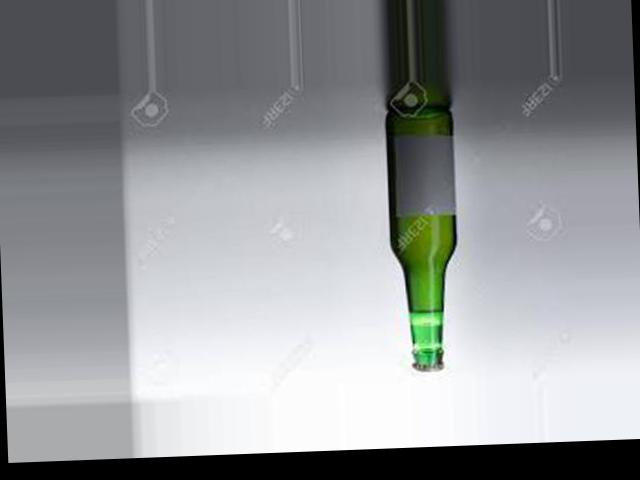beer: (384, 106, 462, 372)
